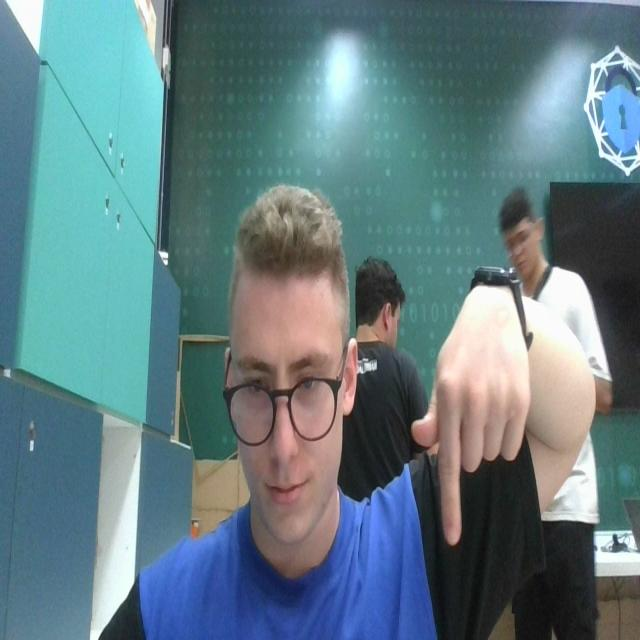Q: (409, 281, 533, 558)
